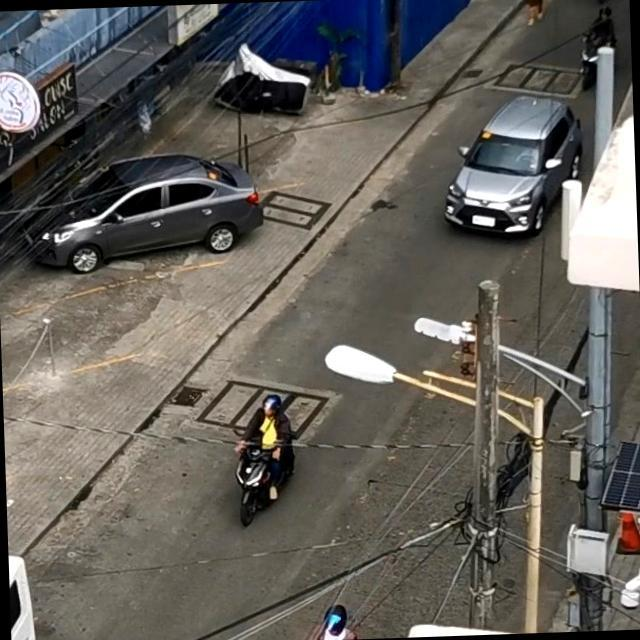Car: (22, 152, 253, 272), (441, 94, 585, 240)
